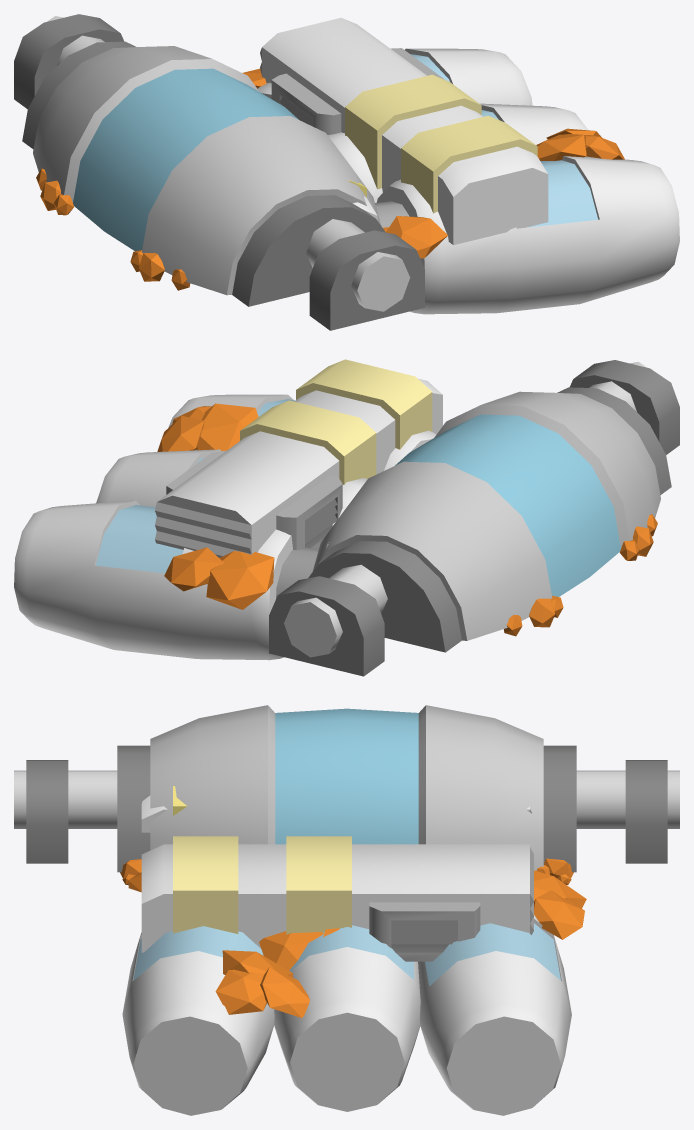
Rendered from Battery.glb.
3 renders of one model, top to bottom at view 1: azimuth 30°, elevation 25°; view 2: azimuth 150°, elevation 25°; view 3: azimuth 270°, elevation 25°, orthographic.
Parts seen in each view (by area): view 1: Sphere, Cylinder.033, Cube.039, Cube.047, Tunnel.011, Cube.042; view 2: Sphere, Cylinder.033, Cube.039, Cube.047, Cube.041, Tunnel.011, Cube.042, Cube.040; view 3: Cylinder.033, Sphere, Cube.039, Cube.047, Tunnel.011, Cube.042, Cube.040, Cylinder.003, Cube.012.
Boxes of the visible parts, x1,y1,x2,y2 form: Sphere: (22, 41, 385, 306); Cylinder.033: (242, 48, 679, 314); Cube.039: (262, 17, 548, 245); Cube.047: (14, 14, 424, 330); Tunnel.011: (47, 16, 410, 311); Cube.042: (271, 48, 444, 134); Sphere: (308, 387, 671, 652); Cylinder.033: (14, 394, 435, 660); Cube.039: (157, 359, 442, 553); Cube.047: (269, 360, 679, 676); Cube.041: (155, 495, 251, 557); Tunnel.011: (284, 362, 646, 657); Cube.042: (166, 450, 342, 550); Cube.040: (305, 497, 337, 547); Cylinder.033: (122, 870, 586, 1115); Sphere: (117, 705, 576, 884); Cube.039: (141, 836, 529, 952); Cube.047: (26, 760, 667, 863); Tunnel.011: (14, 770, 679, 828); Cube.042: (369, 902, 480, 961); Cube.040: (391, 920, 457, 952); Cylinder.003: (259, 928, 339, 970); Cube.012: (141, 786, 529, 832).
Size of the model in its own units: 5.21 by 2.27 by 6.
Materials: 1 (1 with a texture image).
